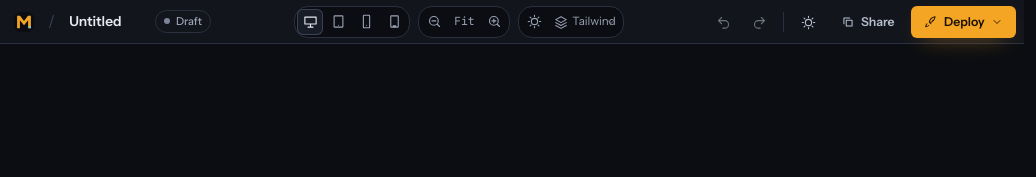
Test: StudioTopbar › names the production target from what the API reports, not a guess
Click the button "Deploy" at (964, 22), box [911,6,1016,38]
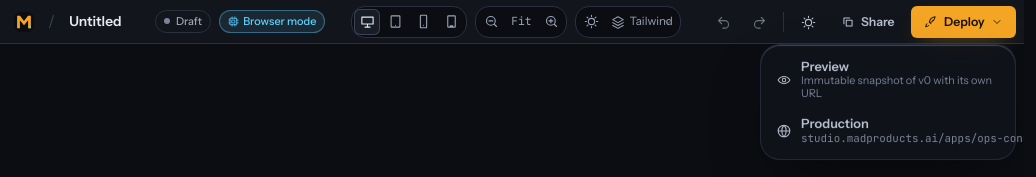
Result: the element with id "deploy-menu" shows "studio.madproducts.ai/apps/ops-console-111111/" at [767,108,1009,152]
